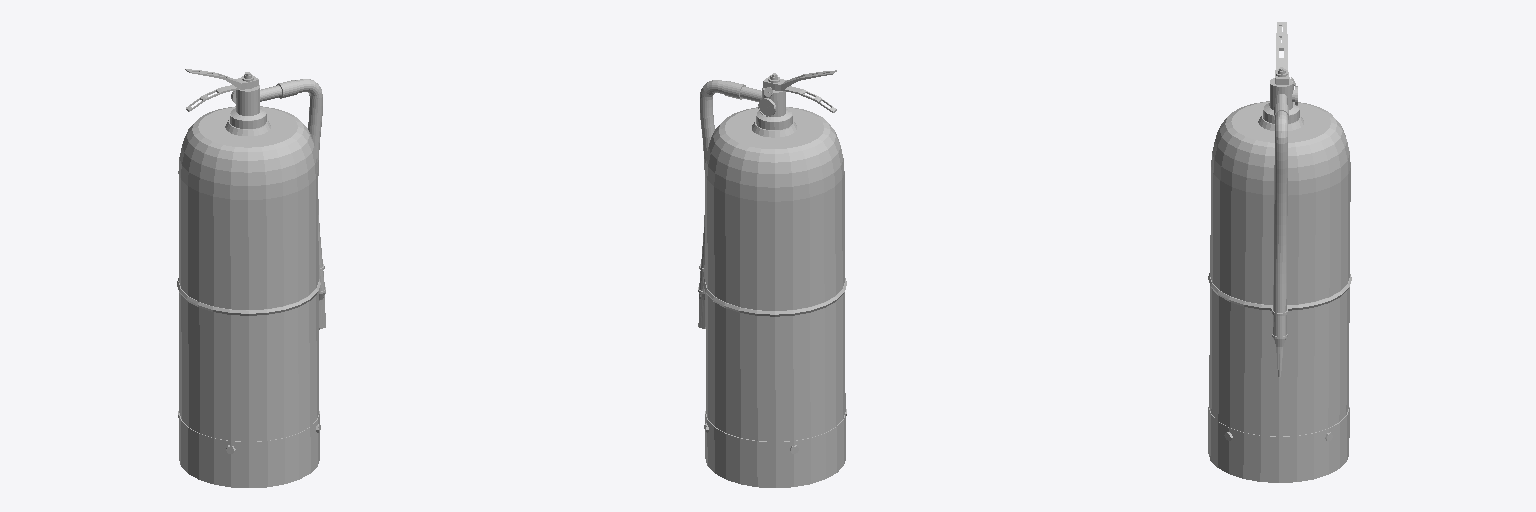
File: extintor.obj
3 views of the same model, side by side, from view 1: azimuth 30°, elevation 25°; view 2: azimuth 150°, elevation 25°; view 3: azimuth 270°, elevation 25° (orthographic).
Visible parts, largest first — view 1: Cylinder.001, Cylinder.013_Cylinder.014, Cylinder.002, Cylinder.006_Cylinder.021, Cylinder.016_Cylinder.018, Cylinder.004, Cylinder.003; view 2: Cylinder.001, Cylinder.013_Cylinder.014, Cylinder.002, Cylinder.006_Cylinder.021, Cylinder.016_Cylinder.018, Cylinder.004; view 3: Cylinder.001, Cylinder.013_Cylinder.014, Cylinder.002, Cylinder.016_Cylinder.018, Cylinder.004, Cylinder.006_Cylinder.021.
Part boxes in pixels (x1,y1,x2,y2): Cylinder.001: (178,85,318,441); Cylinder.013_Cylinder.014: (179,411,319,487); Cylinder.002: (295,79,324,291); Cylinder.006_Cylinder.021: (225,108,270,135); Cylinder.016_Cylinder.018: (177,264,324,315); Cylinder.004: (185,69,258,111); Cylinder.003: (260,80,298,101); Cylinder.001: (705,88,845,441); Cylinder.013_Cylinder.014: (705,411,845,487); Cylinder.002: (699,80,726,291); Cylinder.006_Cylinder.021: (752,108,796,137); Cylinder.016_Cylinder.018: (699,264,846,316); Cylinder.004: (763,70,836,112); Cylinder.001: (1209,78,1350,436); Cylinder.013_Cylinder.014: (1208,407,1349,482); Cylinder.002: (1273,111,1287,336); Cylinder.016_Cylinder.018: (1208,273,1351,315); Cylinder.004: (1275,22,1288,84); Cylinder.006_Cylinder.021: (1258,103,1303,130).
Size of the model in its own units: 0.2659 by 0.7341 by 0.2385.